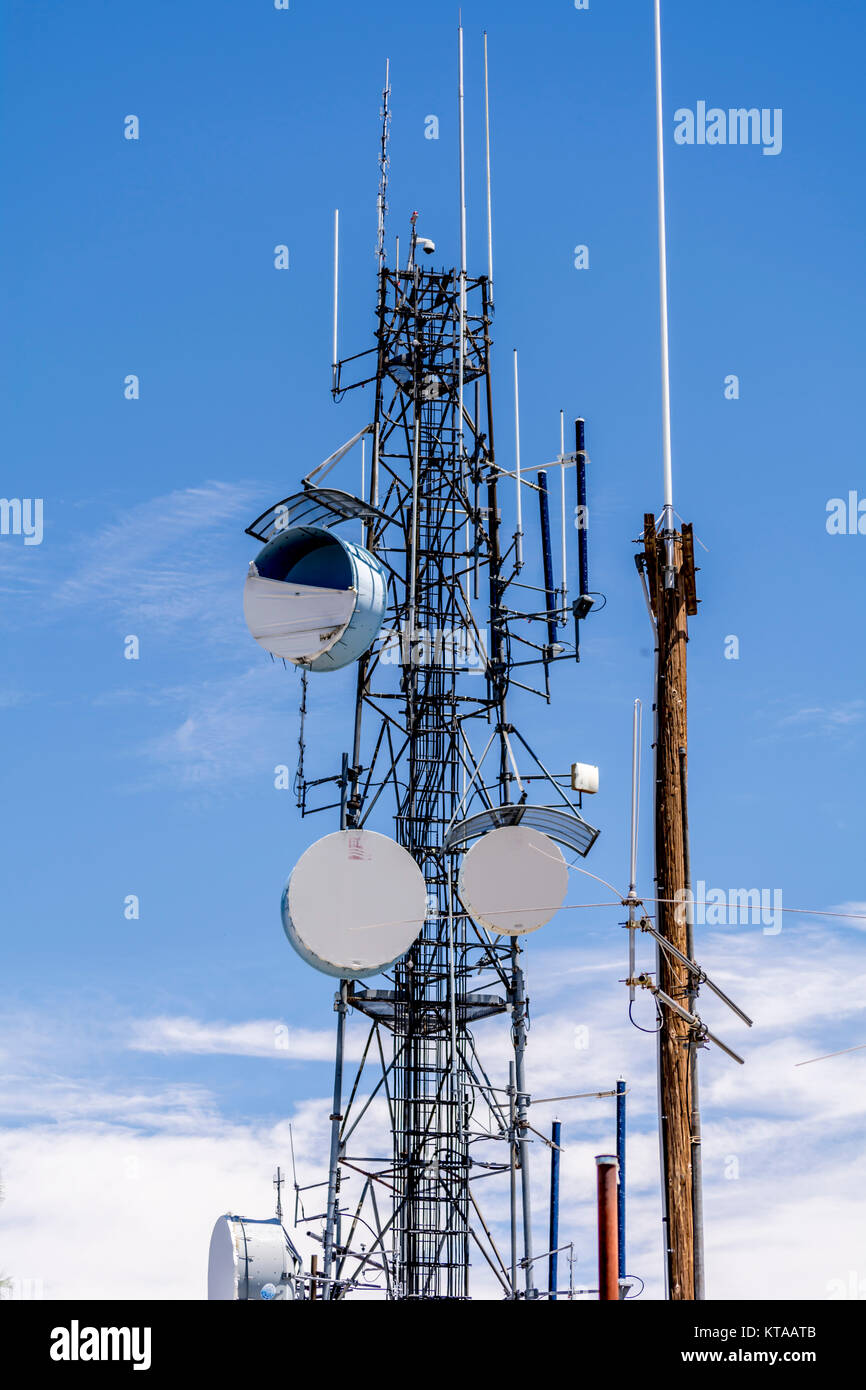ba: (258, 797, 438, 1000), (208, 510, 392, 697), (445, 798, 573, 956)
